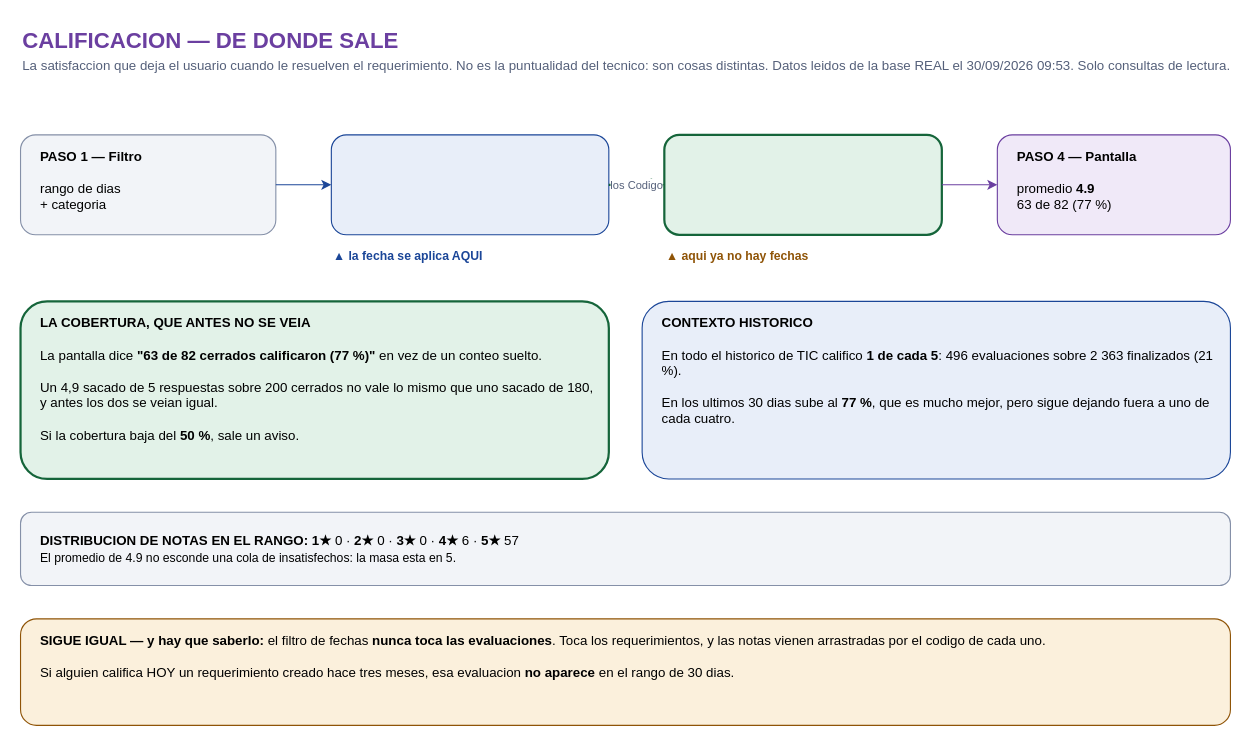
The diagram is 1250 pixels wide and 745 high, and some of its shapes have lost their labels. Here are the shapes that lost their labels. From the top down, the centre of each, then its label:
pixel 469 184: PASO 2 — mv_Requerimientos filtra por Fecha (creacion) 109 requerimientos
pixel 802 184: PASO 3 — mv_EvaluacionReq IdReq IN (subconsulta) 63 evaluaciones
